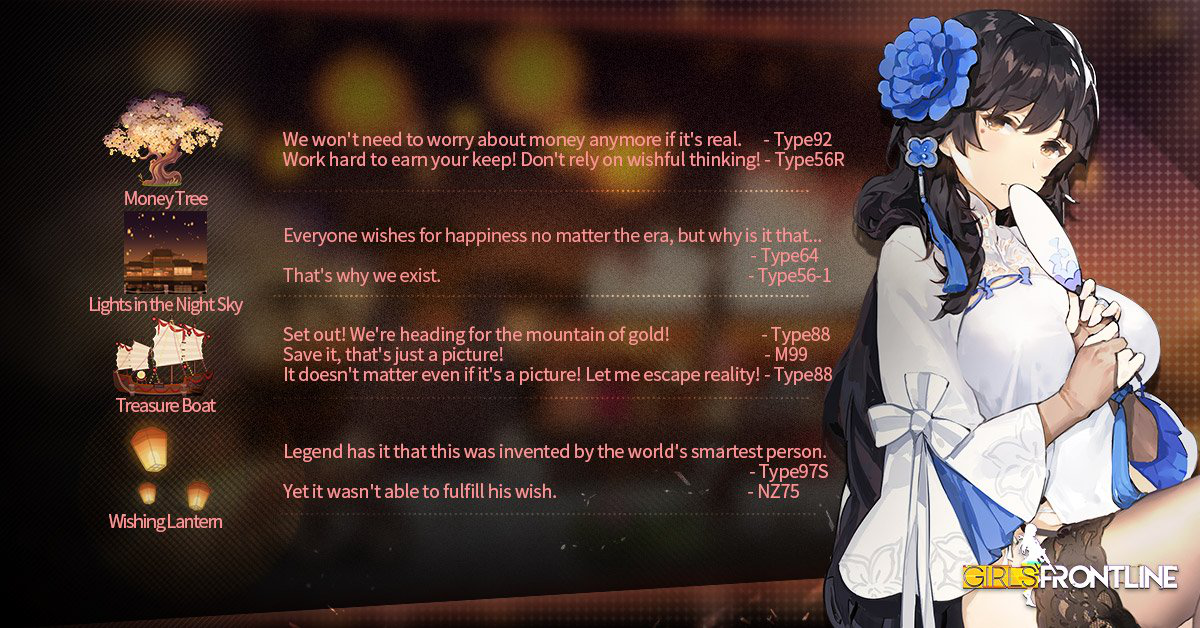latin: (278, 321, 836, 387), (281, 222, 832, 288), (279, 439, 834, 502), (279, 129, 848, 172), (85, 294, 244, 317), (105, 507, 225, 535), (113, 394, 218, 417), (121, 188, 208, 207)
